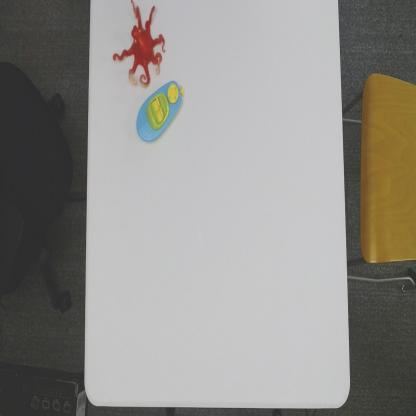Boat: (135, 79, 187, 144)
Octopus: (112, 0, 166, 88)
